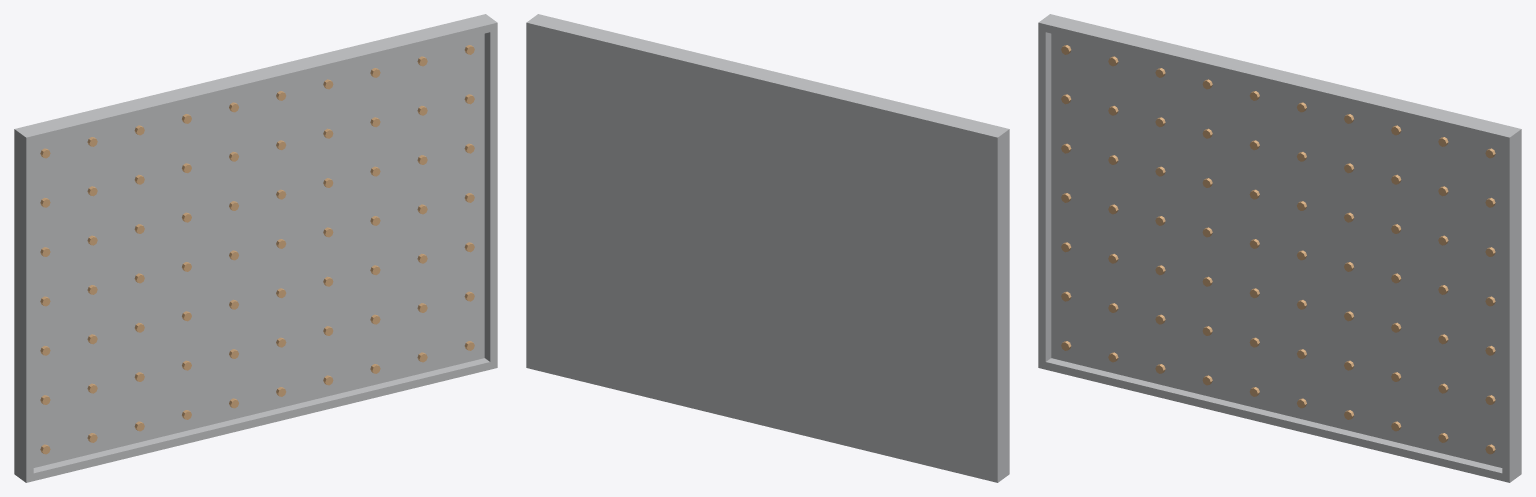
File: circuit_board.glb
The picture shows the model from 3 angles, left to right: view 1: azimuth 30°, elevation 25°; view 2: azimuth 150°, elevation 25°; view 3: azimuth 330°, elevation 25°; orthographic projection.
Parts seen in each view (by area): view 1: plastic_gray, copper; view 2: plastic_gray; view 3: plastic_gray, copper.
Boxes of the visible parts, x1,y1,x2,y2 form: plastic_gray: (14, 14, 497, 482); copper: (40, 45, 474, 454); plastic_gray: (526, 14, 1009, 482); plastic_gray: (1038, 14, 1521, 482); copper: (1061, 45, 1495, 454).
Size of the model in its own units: 0.254 by 0.1778 by 0.011.
